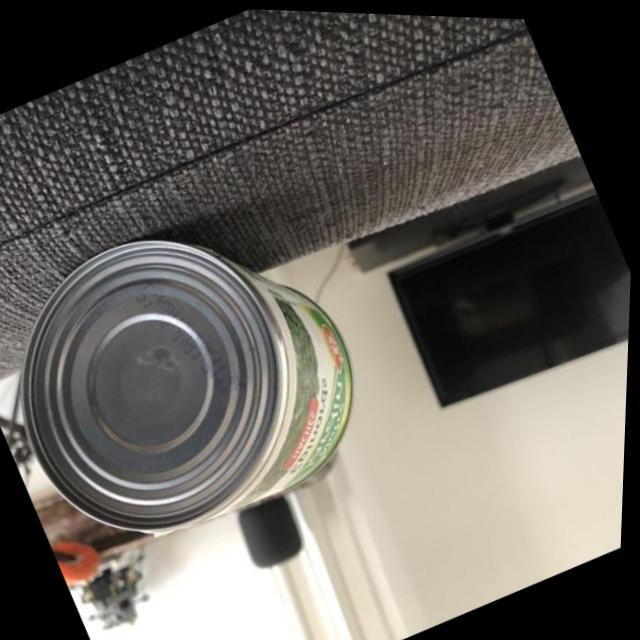metal: (0, 241, 351, 639)
